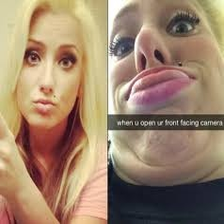no_mask: (110, 8, 223, 115), (23, 18, 80, 126)
